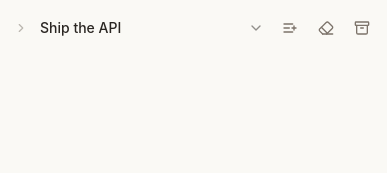
Test case: GroupChatHeaderActions task status › says nothing about a task that is not doing anything
Click the dropdown named "Current task" at (152, 28), box [32,12,272,44]
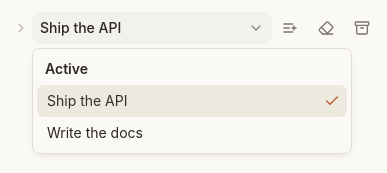
Check: the options read "Ship the API", "Write the docs", in this order, box [37,85,347,117]; [47,124,143,141]
